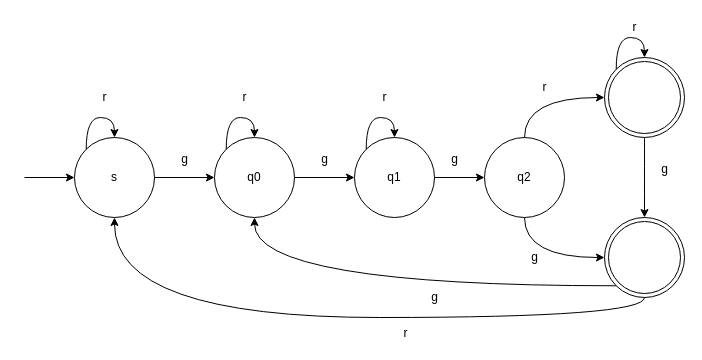
This 702x360 diagram has some shape labels left out. The shapes that lost their labels are listed below. From the top down, each one's centre as x and y in pixels, then its label:
At (x=644, y=97): "a0".
At (x=644, y=257): "a1".
